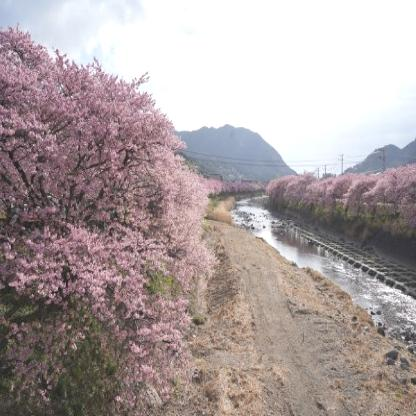KawazuSakura: (1, 22, 219, 414), (265, 157, 416, 233)
